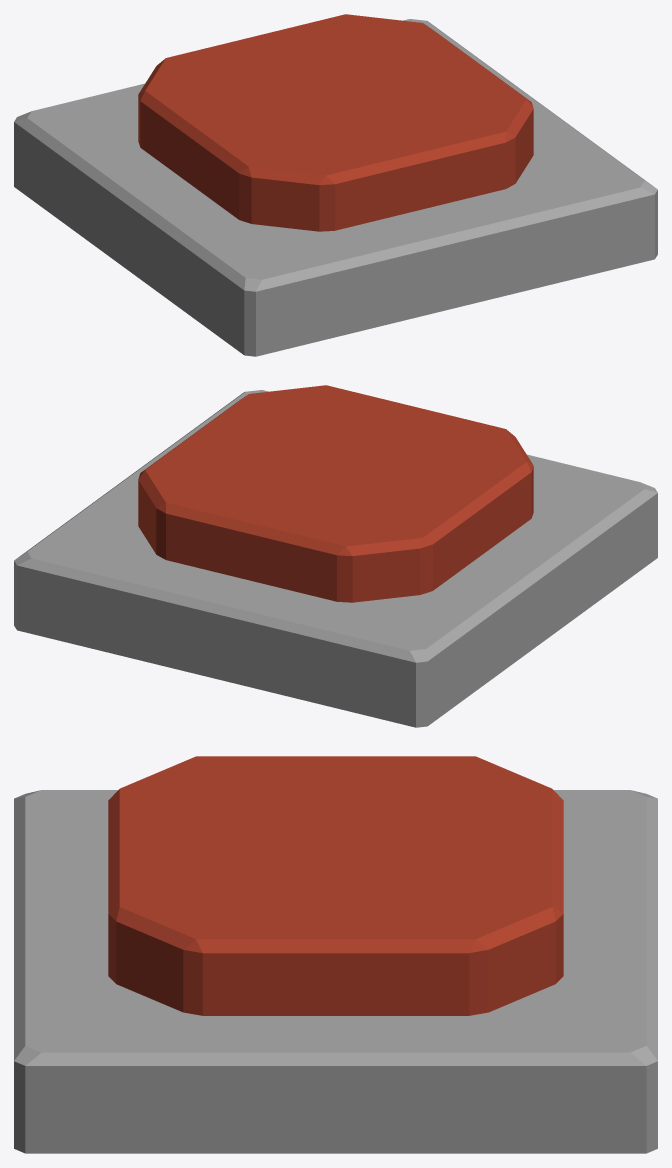
File: button with animation and textures.fbx
The picture shows the model from 3 angles, top to bottom: view 1: azimuth 30°, elevation 25°; view 2: azimuth 150°, elevation 25°; view 3: azimuth 270°, elevation 25°; orthographic projection. The views are drawn at different scales.
Visible parts, largest first — view 1: Cube, Cube.001; view 2: Cube, Cube.001; view 3: Cube, Cube.001.
Boxes of the visible parts, <box> form: Cube: <box>14,19,657,356</box>; Cube.001: <box>138,14,533,231</box>; Cube: <box>14,390,657,727</box>; Cube.001: <box>138,385,533,602</box>; Cube: <box>14,790,657,1153</box>; Cube.001: <box>108,756,563,1015</box>.
Size of the model in its own units: 200 by 58.7 by 200.
